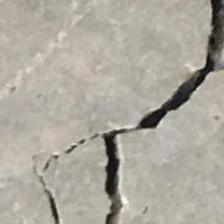Crack: (36, 0, 224, 224)
